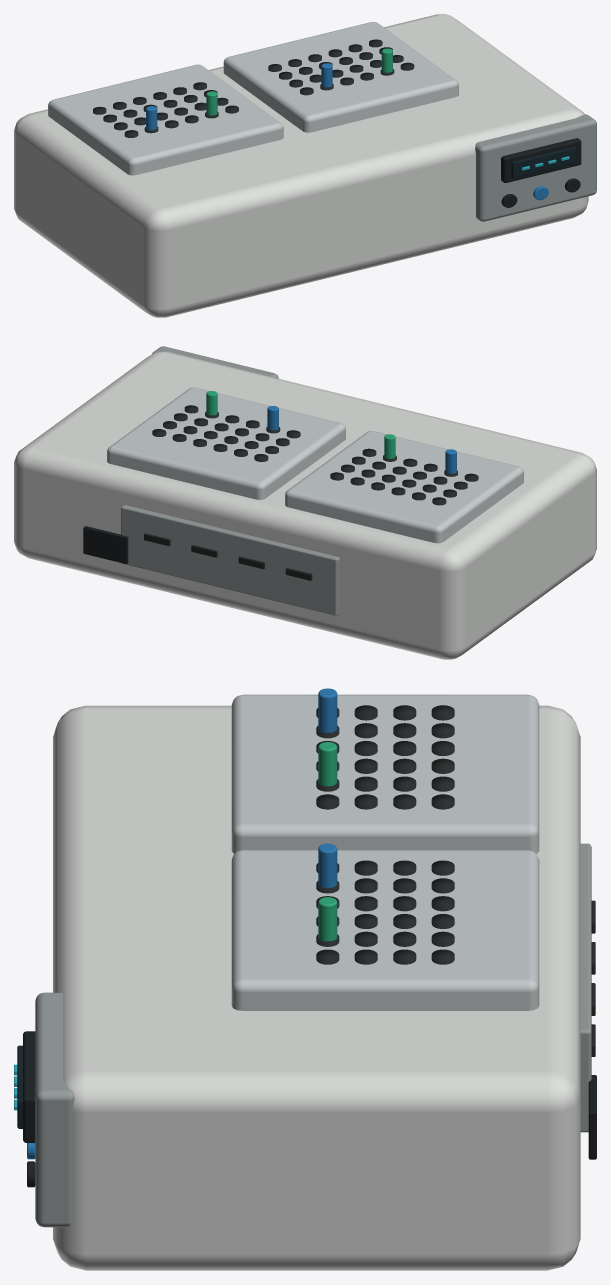
The model's file is dry-block-heater.glb.
The picture shows the model from 3 angles, top to bottom: view 1: azimuth 30°, elevation 25°; view 2: azimuth 150°, elevation 25°; view 3: azimuth 270°, elevation 25°; orthographic projection. The views are drawn at different scales.
Parts seen in each view (by area): view 1: Runtime batch - Cool instrument polymer, Runtime batch - Machined aluminum heat block, Runtime batch - Powder coat service gray, Runtime batch - Casework seam shadow, Runtime batch - Black engineering polymer, Runtime batch - Smoked instrument display glass, Runtime batch - Cold service blue, Runtime batch - Room 809 inventory green; view 2: Runtime batch - Cool instrument polymer, Runtime batch - Machined aluminum heat block, Runtime batch - Powder coat service gray, Runtime batch - Casework seam shadow, Runtime batch - Black engineering polymer, Runtime batch - Cold service blue, Runtime batch - Room 809 inventory green; view 3: Runtime batch - Cool instrument polymer, Runtime batch - Machined aluminum heat block, Runtime batch - Casework seam shadow, Runtime batch - Powder coat service gray, Runtime batch - Black engineering polymer, Runtime batch - Cold service blue, Runtime batch - Room 809 inventory green.
Boxes of the visible parts, x1,y1,x2,y2 form: Runtime batch - Cool instrument polymer: [14, 14, 588, 317]; Runtime batch - Machined aluminum heat block: [48, 22, 458, 175]; Runtime batch - Powder coat service gray: [475, 114, 596, 221]; Runtime batch - Casework seam shadow: [93, 39, 414, 137]; Runtime batch - Black engineering polymer: [501, 138, 581, 207]; Runtime batch - Smoked instrument display glass: [511, 147, 576, 178]; Runtime batch - Cold service blue: [146, 63, 548, 199]; Runtime batch - Room 809 inventory green: [206, 48, 392, 115]; Runtime batch - Cool instrument polymer: [14, 351, 596, 659]; Runtime batch - Machined aluminum heat block: [107, 387, 523, 543]; Runtime batch - Powder coat service gray: [121, 346, 339, 615]; Runtime batch - Casework seam shadow: [144, 405, 478, 580]; Runtime batch - Black engineering polymer: [83, 526, 128, 563]; Runtime batch - Cold service blue: [267, 406, 456, 473]; Runtime batch - Room 809 inventory green: [206, 391, 395, 458]; Runtime batch - Cool instrument polymer: [53, 705, 580, 1270]; Runtime batch - Machined aluminum heat block: [231, 694, 539, 1010]; Runtime batch - Casework seam shadow: [316, 705, 595, 1056]; Runtime batch - Powder coat service gray: [35, 843, 591, 1227]; Runtime batch - Black engineering polymer: [23, 1031, 596, 1187]; Runtime batch - Cold service blue: [27, 688, 337, 1159]; Runtime batch - Room 809 inventory green: [318, 742, 337, 941].
Bounding box in the file's own units: 0.318 × 0.1 × 0.2.
